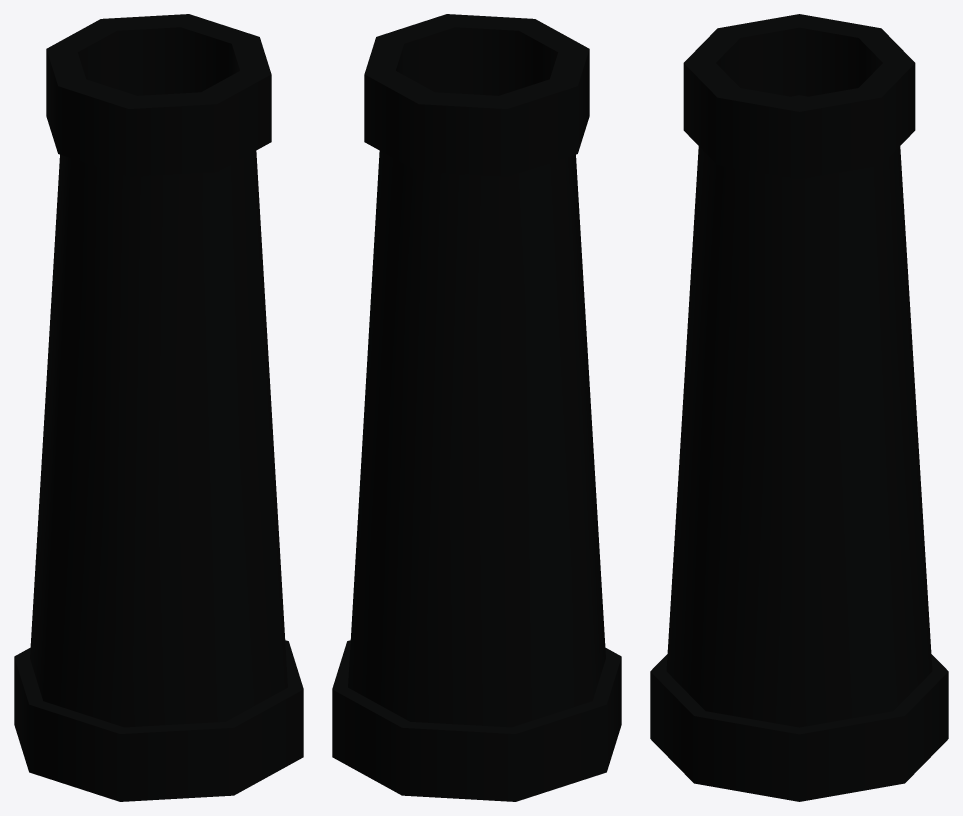
File: chimney-small.glb
3 views of the same model, side by side, from view 1: azimuth 30°, elevation 25°; view 2: azimuth 150°, elevation 25°; view 3: azimuth 270°, elevation 25° (orthographic).
Parts seen in each view (by area): view 1: chimney-small; view 2: chimney-small; view 3: chimney-small.
Part boxes in pixels (bbox=[...]): chimney-small: bbox=[14, 14, 303, 801]; chimney-small: bbox=[332, 14, 621, 801]; chimney-small: bbox=[650, 14, 948, 801].
Size of the model in its own units: 0.3001 by 0.75 by 0.3001.
Materials: 1 (1 with a texture image).
